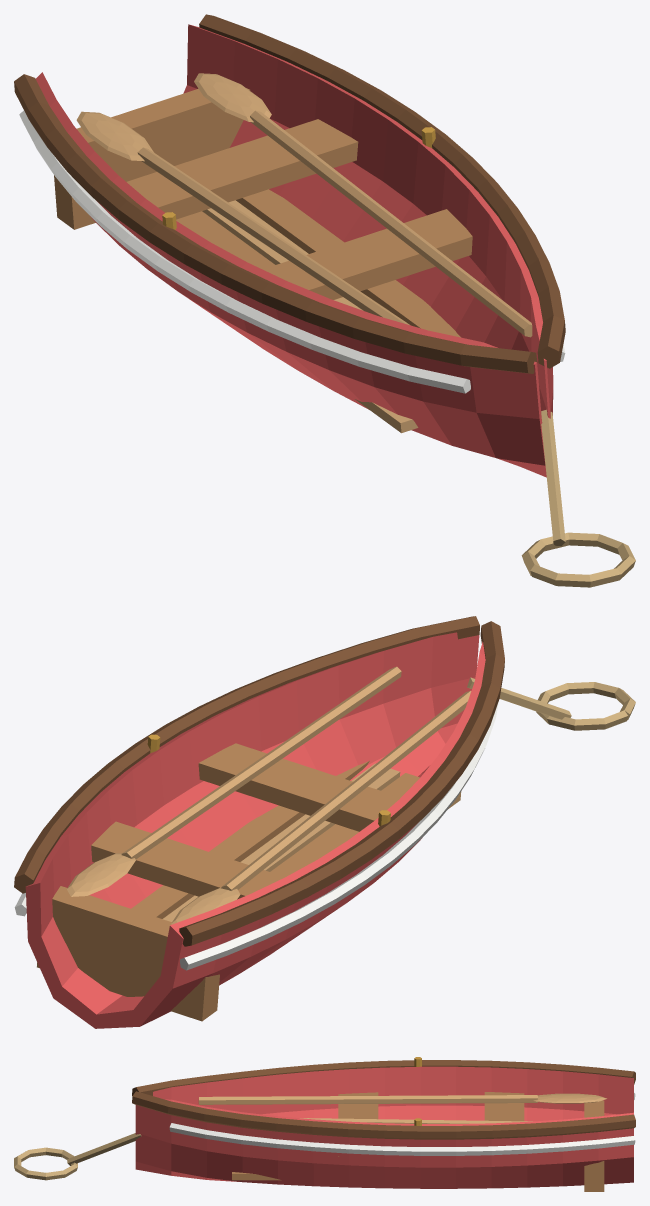
File: RowBoat.fbx
The picture shows the model from 3 angles, top to bottom: view 1: azimuth 30°, elevation 25°; view 2: azimuth 150°, elevation 25°; view 3: azimuth 270°, elevation 25°; orthographic projection. The views are drawn at different scales.
Parts seen in each view (by area): view 1: RowBoat_Accent, RowBoat_Plank, RowBoat_WoodDark, RowBoat_WoodLight, RowBoat_White, RowBoat_Rope; view 2: RowBoat_Accent, RowBoat_Plank, RowBoat_WoodDark, RowBoat_WoodLight, RowBoat_White, RowBoat_Rope; view 3: RowBoat_Accent, RowBoat_WoodDark, RowBoat_White, RowBoat_WoodLight, RowBoat_Plank, RowBoat_Rope.
Boxes of the visible parts, x1,y1,x2,y2 form: RowBoat_Accent: [36, 24, 553, 477]; RowBoat_Plank: [54, 88, 472, 337]; RowBoat_WoodDark: [14, 14, 565, 373]; RowBoat_WoodLight: [76, 73, 532, 433]; RowBoat_White: [19, 110, 565, 393]; RowBoat_Rope: [521, 409, 635, 587]; RowBoat_Accent: [25, 632, 485, 1028]; RowBoat_Plank: [37, 743, 419, 1021]; RowBoat_WoodDark: [14, 616, 504, 946]; RowBoat_WoodLight: [66, 666, 471, 924]; RowBoat_White: [14, 702, 498, 970]; RowBoat_Rope: [467, 677, 635, 730]; RowBoat_Accent: [135, 1066, 633, 1188]; RowBoat_WoodDark: [132, 1060, 635, 1139]; RowBoat_White: [169, 1093, 635, 1155]; RowBoat_WoodLight: [198, 1093, 606, 1123]; RowBoat_Plank: [232, 1092, 604, 1191]; RowBoat_Rope: [14, 1133, 141, 1180].
Size of the model in its own units: 6.06 by 3.21 by 18.72.
